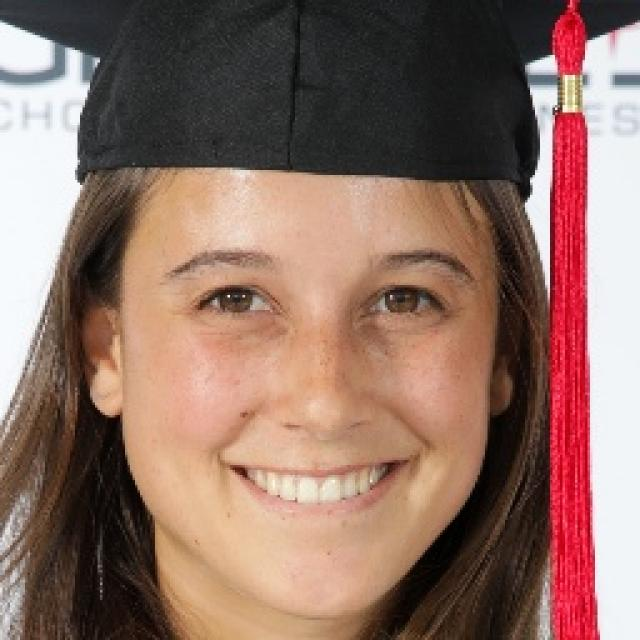earlobe: (85, 364, 125, 420), (485, 374, 516, 419)
eye: (194, 281, 281, 323), (360, 285, 448, 319)
nose: (278, 418, 369, 460)
wholeear: (74, 284, 125, 420)
